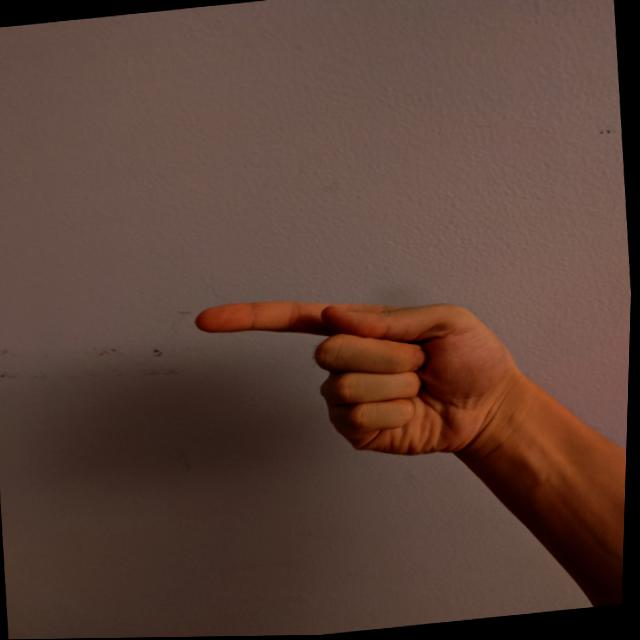G: (187, 271, 536, 483)
